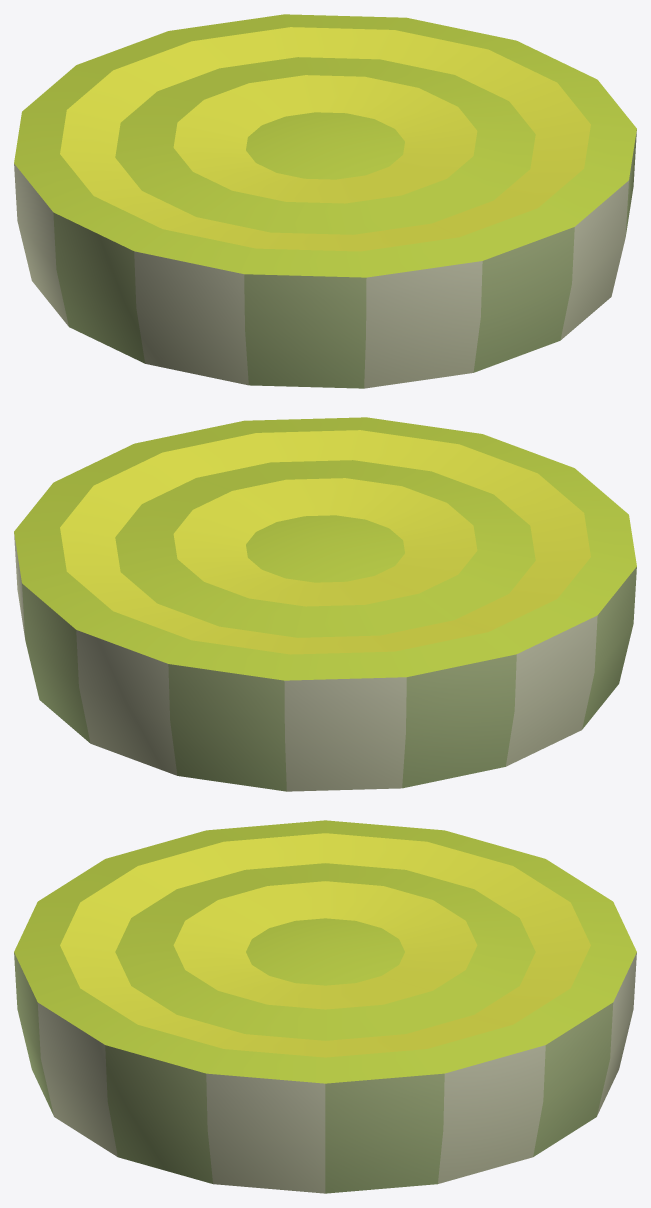
Rendered from Onion_Slice_02.glb.
3 renders of one model, top to bottom at view 1: azimuth 30°, elevation 25°; view 2: azimuth 150°, elevation 25°; view 3: azimuth 270°, elevation 25°, orthographic.
Parts seen in each view (by area): view 1: Onion_Slice_02; view 2: Onion_Slice_02; view 3: Onion_Slice_02.
Boxes of the visible parts, x1,y1,x2,y2 form: Onion_Slice_02: [14, 14, 636, 388]; Onion_Slice_02: [14, 417, 636, 791]; Onion_Slice_02: [14, 820, 636, 1193].
Bounding box in the file's own units: 0.1564 × 0.0362 × 0.1564.
Materials: 1 (1 with a texture image).
